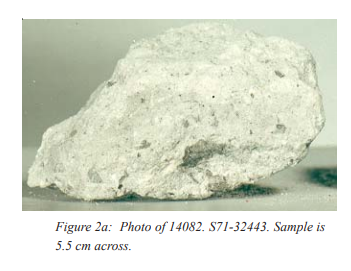Breccia: (21, 20, 330, 211), (27, 93, 317, 192), (185, 37, 326, 169), (131, 95, 269, 164)
